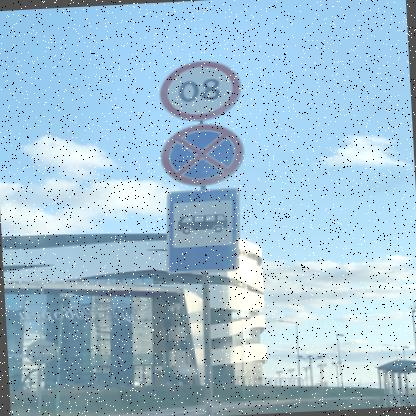speedlimit: (158, 57, 244, 120)
